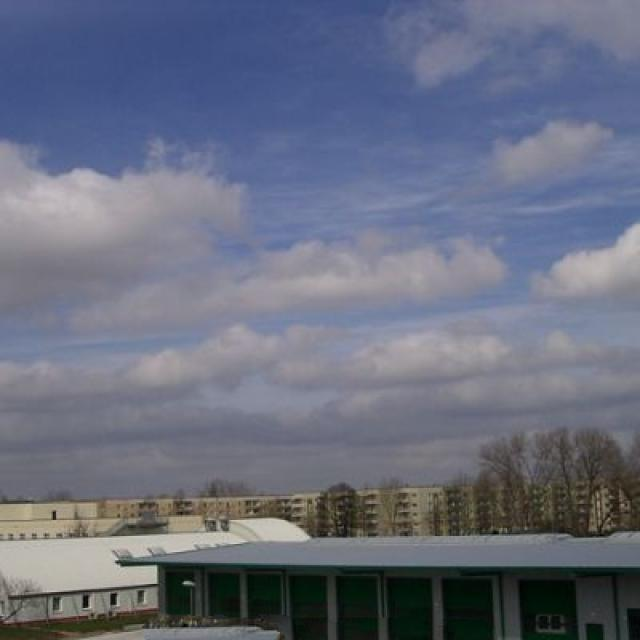Cu: (1, 114, 640, 413)
